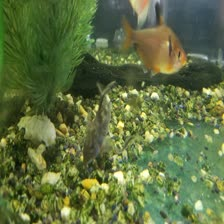Kiros: (62, 83, 137, 167)
Transparente: (118, 5, 187, 77)
